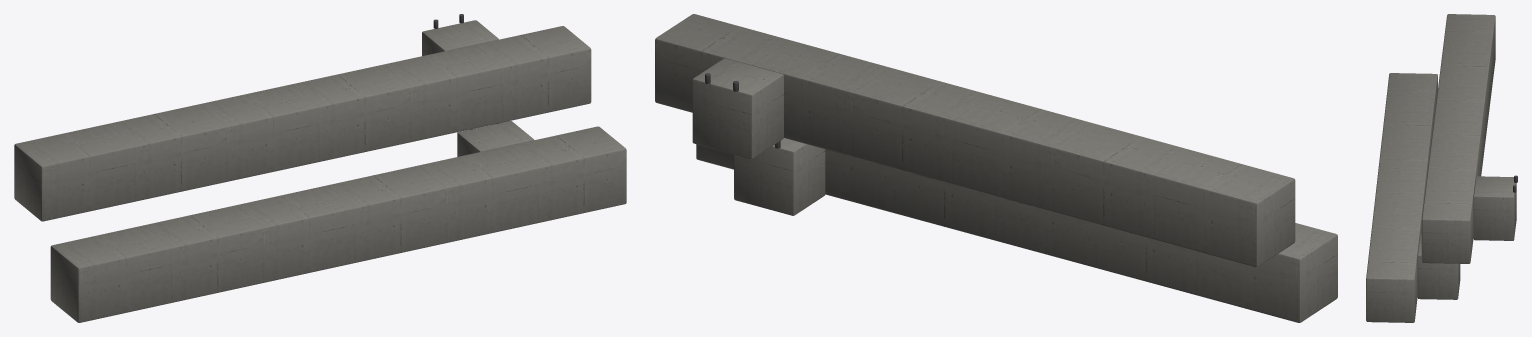
File: EST-PRE-001_anim.glb
The picture shows the model from 3 angles, left to right: view 1: azimuth 30°, elevation 25°; view 2: azimuth 150°, elevation 25°; view 3: azimuth 270°, elevation 25°; orthographic projection. The views are drawn at different scales.
Parts seen in each view (by area): view 1: EST-PRE-001_anim1, EST-PRE-001_anim0; view 2: EST-PRE-001_anim1, EST-PRE-001_anim0; view 3: EST-PRE-001_anim1, EST-PRE-001_anim0.
Part boxes in pixels (<box>): EST-PRE-001_anim1: <box>14,14,591,221</box>; EST-PRE-001_anim0: <box>50,121,626,322</box>; EST-PRE-001_anim1: <box>655,14,1295,267</box>; EST-PRE-001_anim0: <box>696,138,1337,322</box>; EST-PRE-001_anim1: <box>1421,14,1517,263</box>; EST-PRE-001_anim0: <box>1366,73,1460,322</box>.
Bounding box in the file's own units: 3.01 × 0.74 × 0.933.
2 materials, 2 textured.
